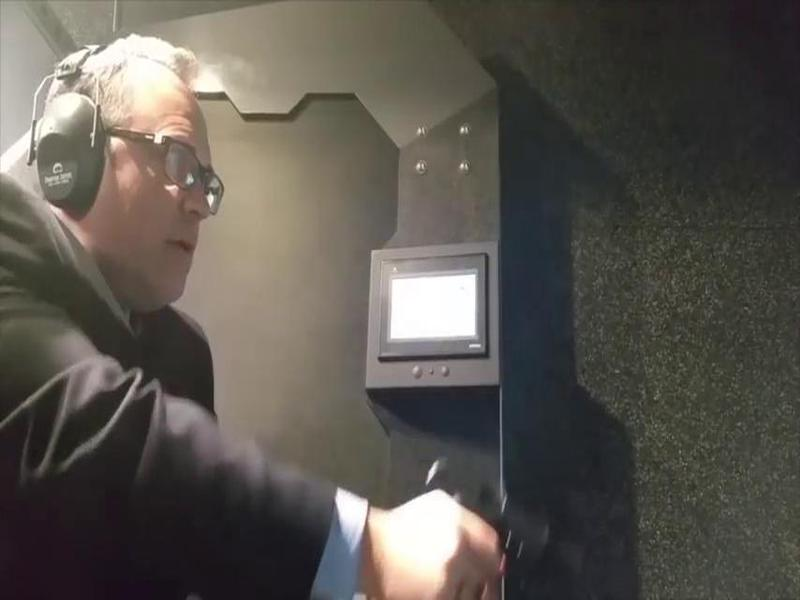Pistola: (386, 443, 594, 599)
